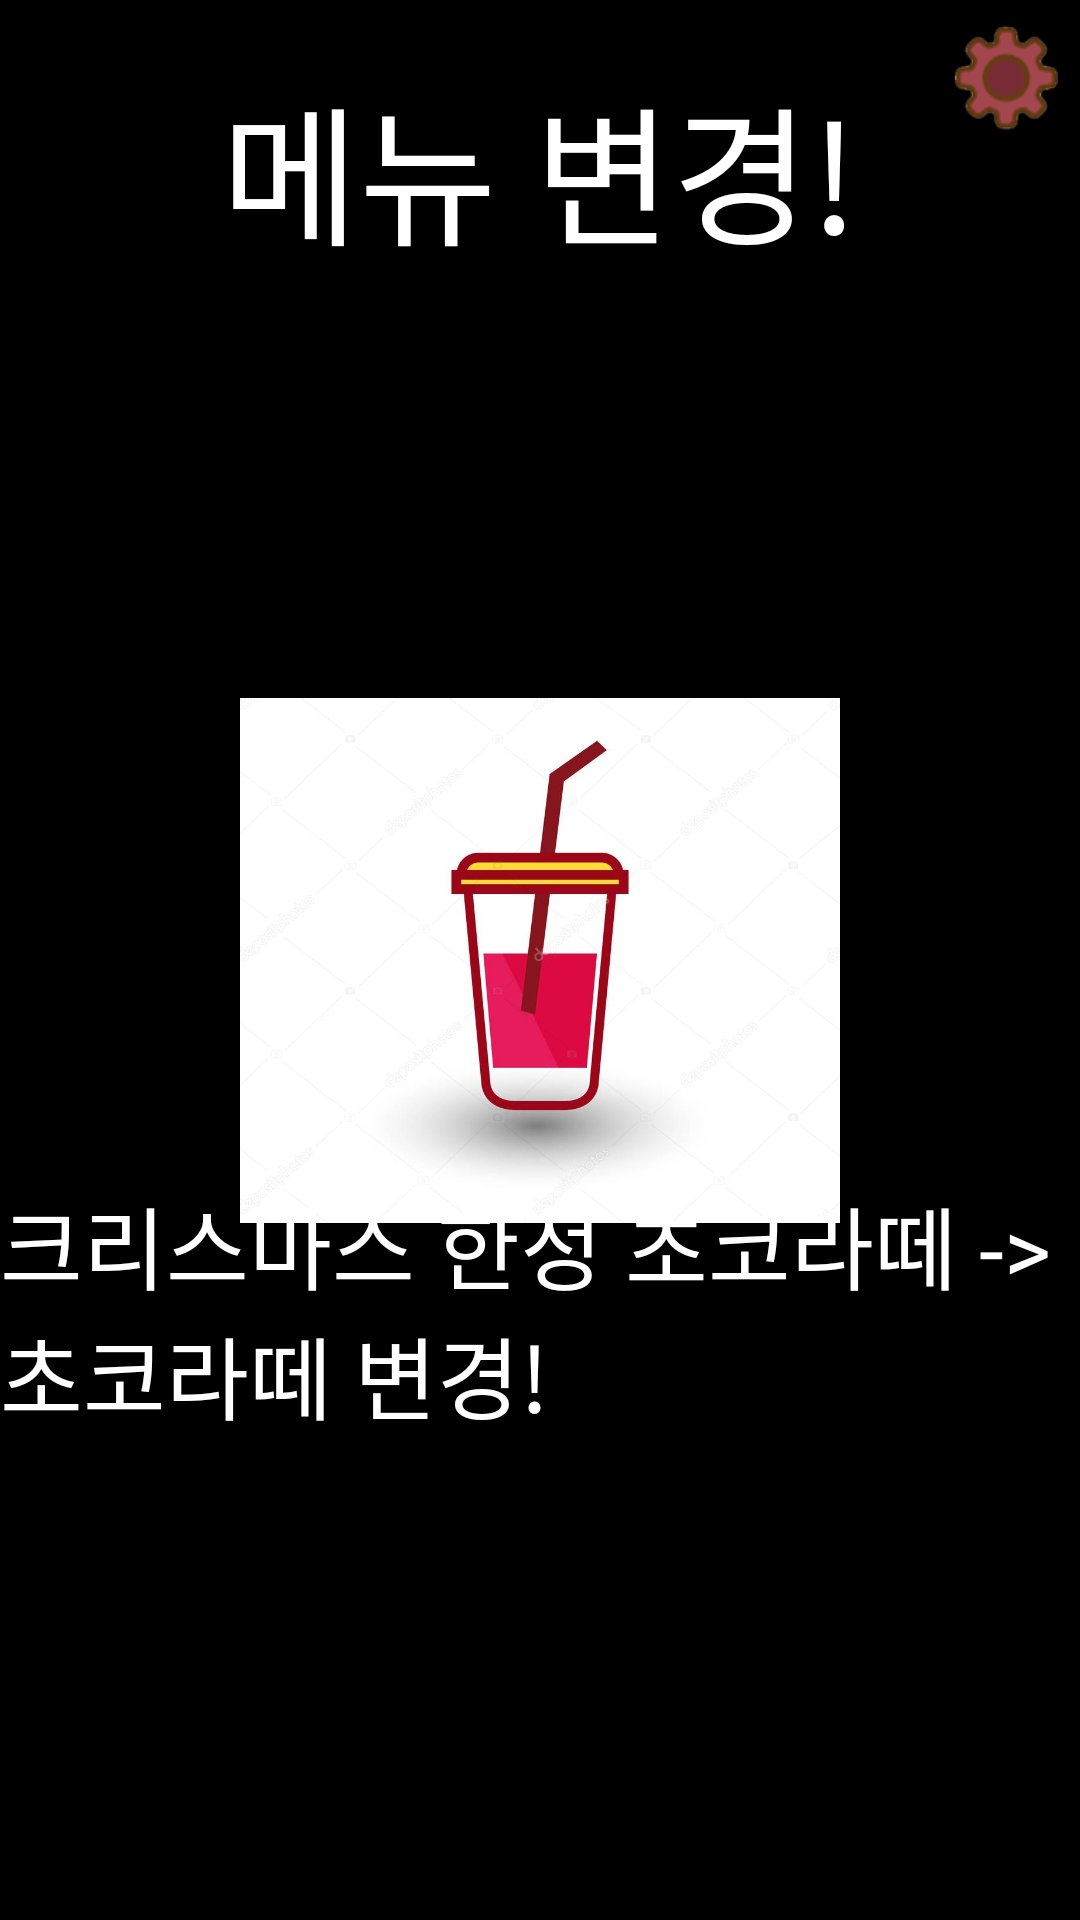

Icons on this 1080w x 1920h Android screen, each with its box as [x1, y1, x2, y2]:
setting: [954, 26, 1058, 130]
